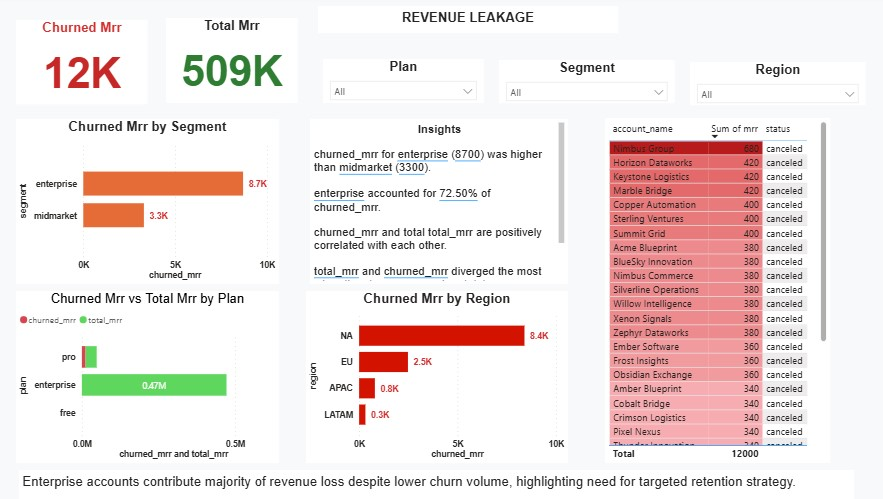

What the dashboard file says about the page in this screenshot:
{"tool":"powerbi","page":{"name":"REVENUE LEAKAGE","canvas":[1280,720],"ordinal":2},"visuals":[{"type":"card","title":"Churned Mrr","fields":{"Values":["measure.churned_mrr"]},"box":[39.5,33.9,186.4,118.6],"z":0},{"type":"barChart","title":"Churned Mrr by Segment","fields":{"Category":["accounts.segment"],"Y":["measure.churned_mrr"]},"box":[39.5,173.6,371.3,232.9],"z":1000},{"type":"barChart","title":"Churned Mrr vs Total Mrr by Plan","fields":{"Y":["measure.churned_mrr","measure.total_mrr"],"Category":["subscriptions.plan"]},"box":[39.5,416.5,371.3,242.8],"z":2000},{"type":"tableEx","fields":{"Values":["accounts.account_name","Sum(subscriptions.mrr)","subscriptions.status"]},"box":[871.1,172.2,317.6,487.1],"z":3000},{"type":"barChart","title":"Churned Mrr by Region","fields":{"Category":["accounts.region"],"Y":["measure.churned_mrr"]},"box":[448.9,416.5,369.9,242.8],"z":4000},{"type":"card","title":"Total Mrr","fields":{"Values":["measure.total_mrr"]},"box":[251.3,31.1,186.4,120],"z":5000},{"type":"slicer","title":"Plan","fields":{"Values":["accounts.plan"]},"box":[472.9,88.9,227.3,62.1],"z":6000},{"type":"slicer","title":"Segment","fields":{"Values":["accounts.segment"]},"box":[721.4,90.4,248.5,60.7],"z":7000},{"type":"slicer","title":"Region","fields":{"Values":["accounts.region"]},"box":[991.1,93.2,248.5,60.7],"z":8000},{"type":"textbox","box":[454.6,173.6,364.2,232.9],"z":9000},{"type":"textbox","box":[465.9,14.1,423.5,38.1],"z":10000},{"type":"textbox","box":[43.8,669.2,1178.8,50.8],"z":11000}]}

Visuals, with their boxes in screenshot pixels (x1, y1, x2, y2), scaled from the page's 1280x720 canvas onto the 883x499 screenshot:
"Churned Mrr" card: 27/23/156/106
"Churned Mrr by Segment" barChart: 27/120/283/282
"Churned Mrr vs Total Mrr by Plan" barChart: 27/289/283/457
tableEx - accounts.account_name x Sum(subscriptions.mrr): 601/119/820/457
"Churned Mrr by Region" barChart: 310/289/565/457
"Total Mrr" card: 173/22/302/105
"Plan" slicer: 326/62/483/105
"Segment" slicer: 498/63/669/105
"Region" slicer: 684/65/855/107
textbox: 314/120/565/282
textbox: 321/10/614/36
textbox: 30/464/843/498
